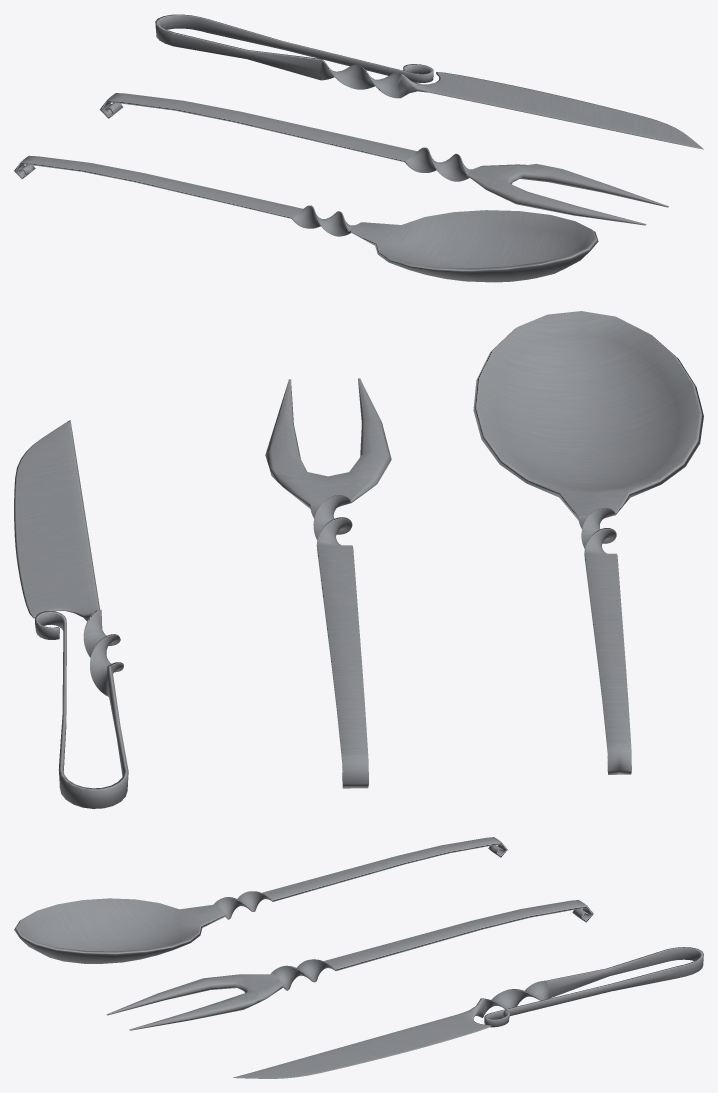
Rendered from viking_tea_party_-_cutlery.glb.
3 renders of one model, top to bottom at view 1: azimuth 30°, elevation 25°; view 2: azimuth 150°, elevation 25°; view 3: azimuth 270°, elevation 25°, orthographic. The views are drawn at different scales.
Visible parts, largest first — view 1: Spoon1, Knife1, Fork1; view 2: Spoon1, Knife1, Fork1; view 3: Spoon1, Knife1, Fork1.
Part boxes in pixels (x1=…): Spoon1: x1=14, y1=155, x2=598, y2=282; Knife1: x1=155, y1=14, x2=703, y2=149; Fork1: x1=99, y1=93, x2=668, y2=225; Spoon1: x1=473, y1=311, x2=703, y2=774; Knife1: x1=14, y1=420, x2=128, y2=808; Fork1: x1=265, y1=378, x2=391, y2=788; Spoon1: x1=14, y1=837, x2=507, y2=963; Knife1: x1=233, y1=947, x2=703, y2=1078; Fork1: x1=106, y1=900, x2=593, y2=1030.
Size of the model in its own units: 1.61 by 0.1715 by 2.
Materials: 3 (3 with a texture image).
